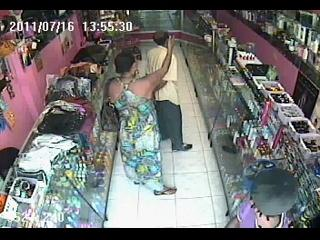Normal: (103, 35, 177, 196), (146, 30, 192, 152), (227, 166, 300, 228)
